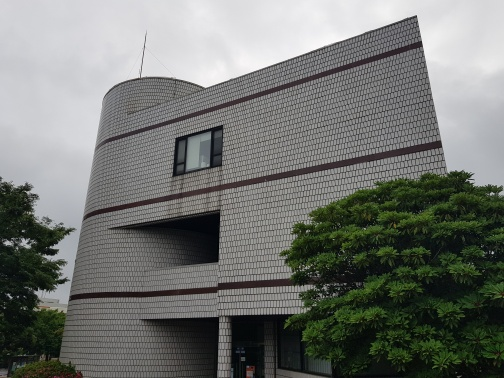Foreign Language Institute: (56, 60, 484, 368)
